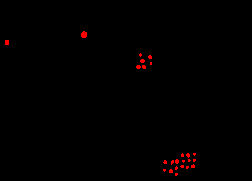Target: (81, 31, 87, 38), (5, 40, 9, 45), (140, 59, 145, 63), (136, 65, 141, 69), (186, 153, 190, 158), (175, 159, 179, 164), (148, 55, 152, 59), (142, 65, 146, 69), (163, 160, 167, 164), (191, 164, 195, 168), (169, 169, 173, 173), (171, 160, 174, 165), (139, 53, 142, 57), (181, 153, 184, 157), (180, 165, 184, 168), (175, 166, 178, 170), (193, 153, 196, 156), (188, 159, 191, 162), (193, 159, 196, 162), (182, 160, 185, 163), (186, 166, 189, 169), (163, 169, 166, 172), (175, 173, 178, 176), (150, 62, 152, 65)
